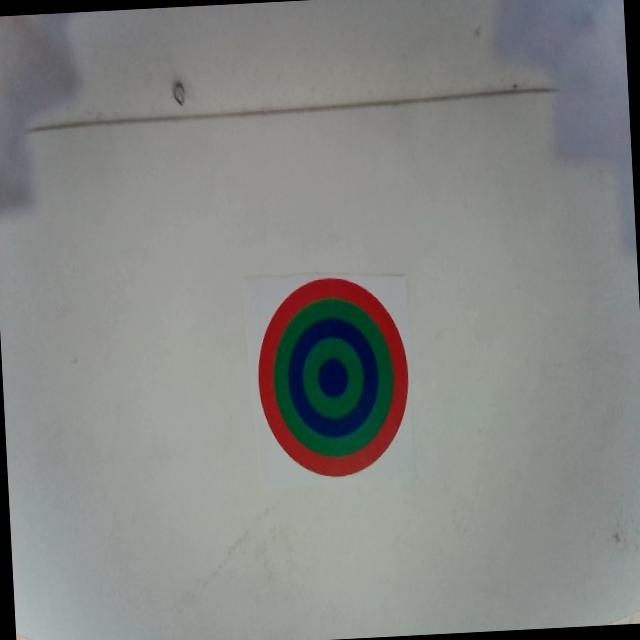cogn: (254, 274, 412, 480)
